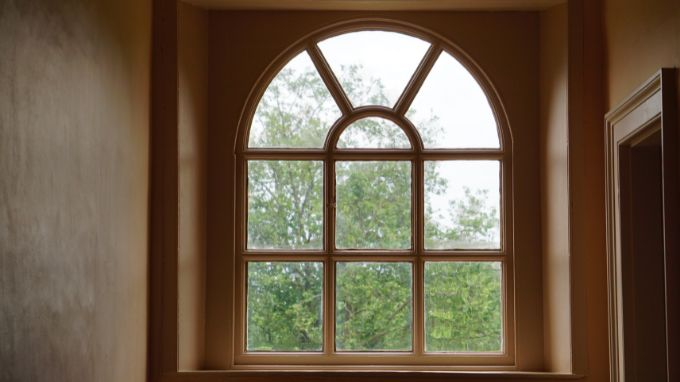Window: (232, 19, 519, 371)
